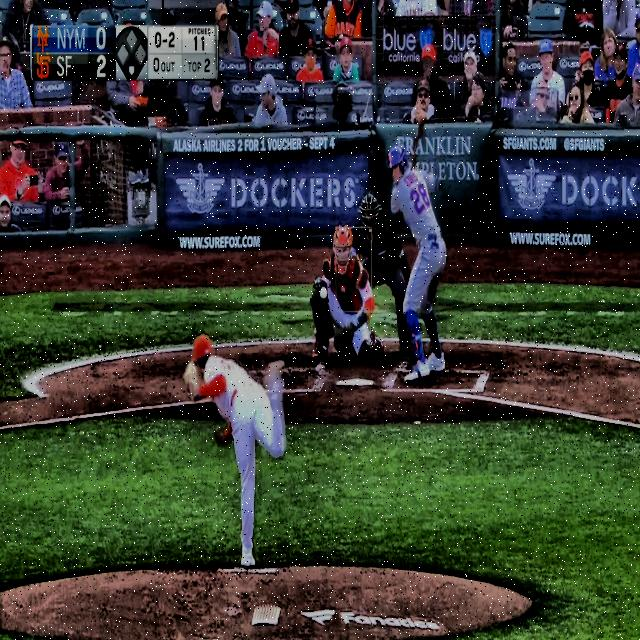baseball: (320, 286, 328, 300)
